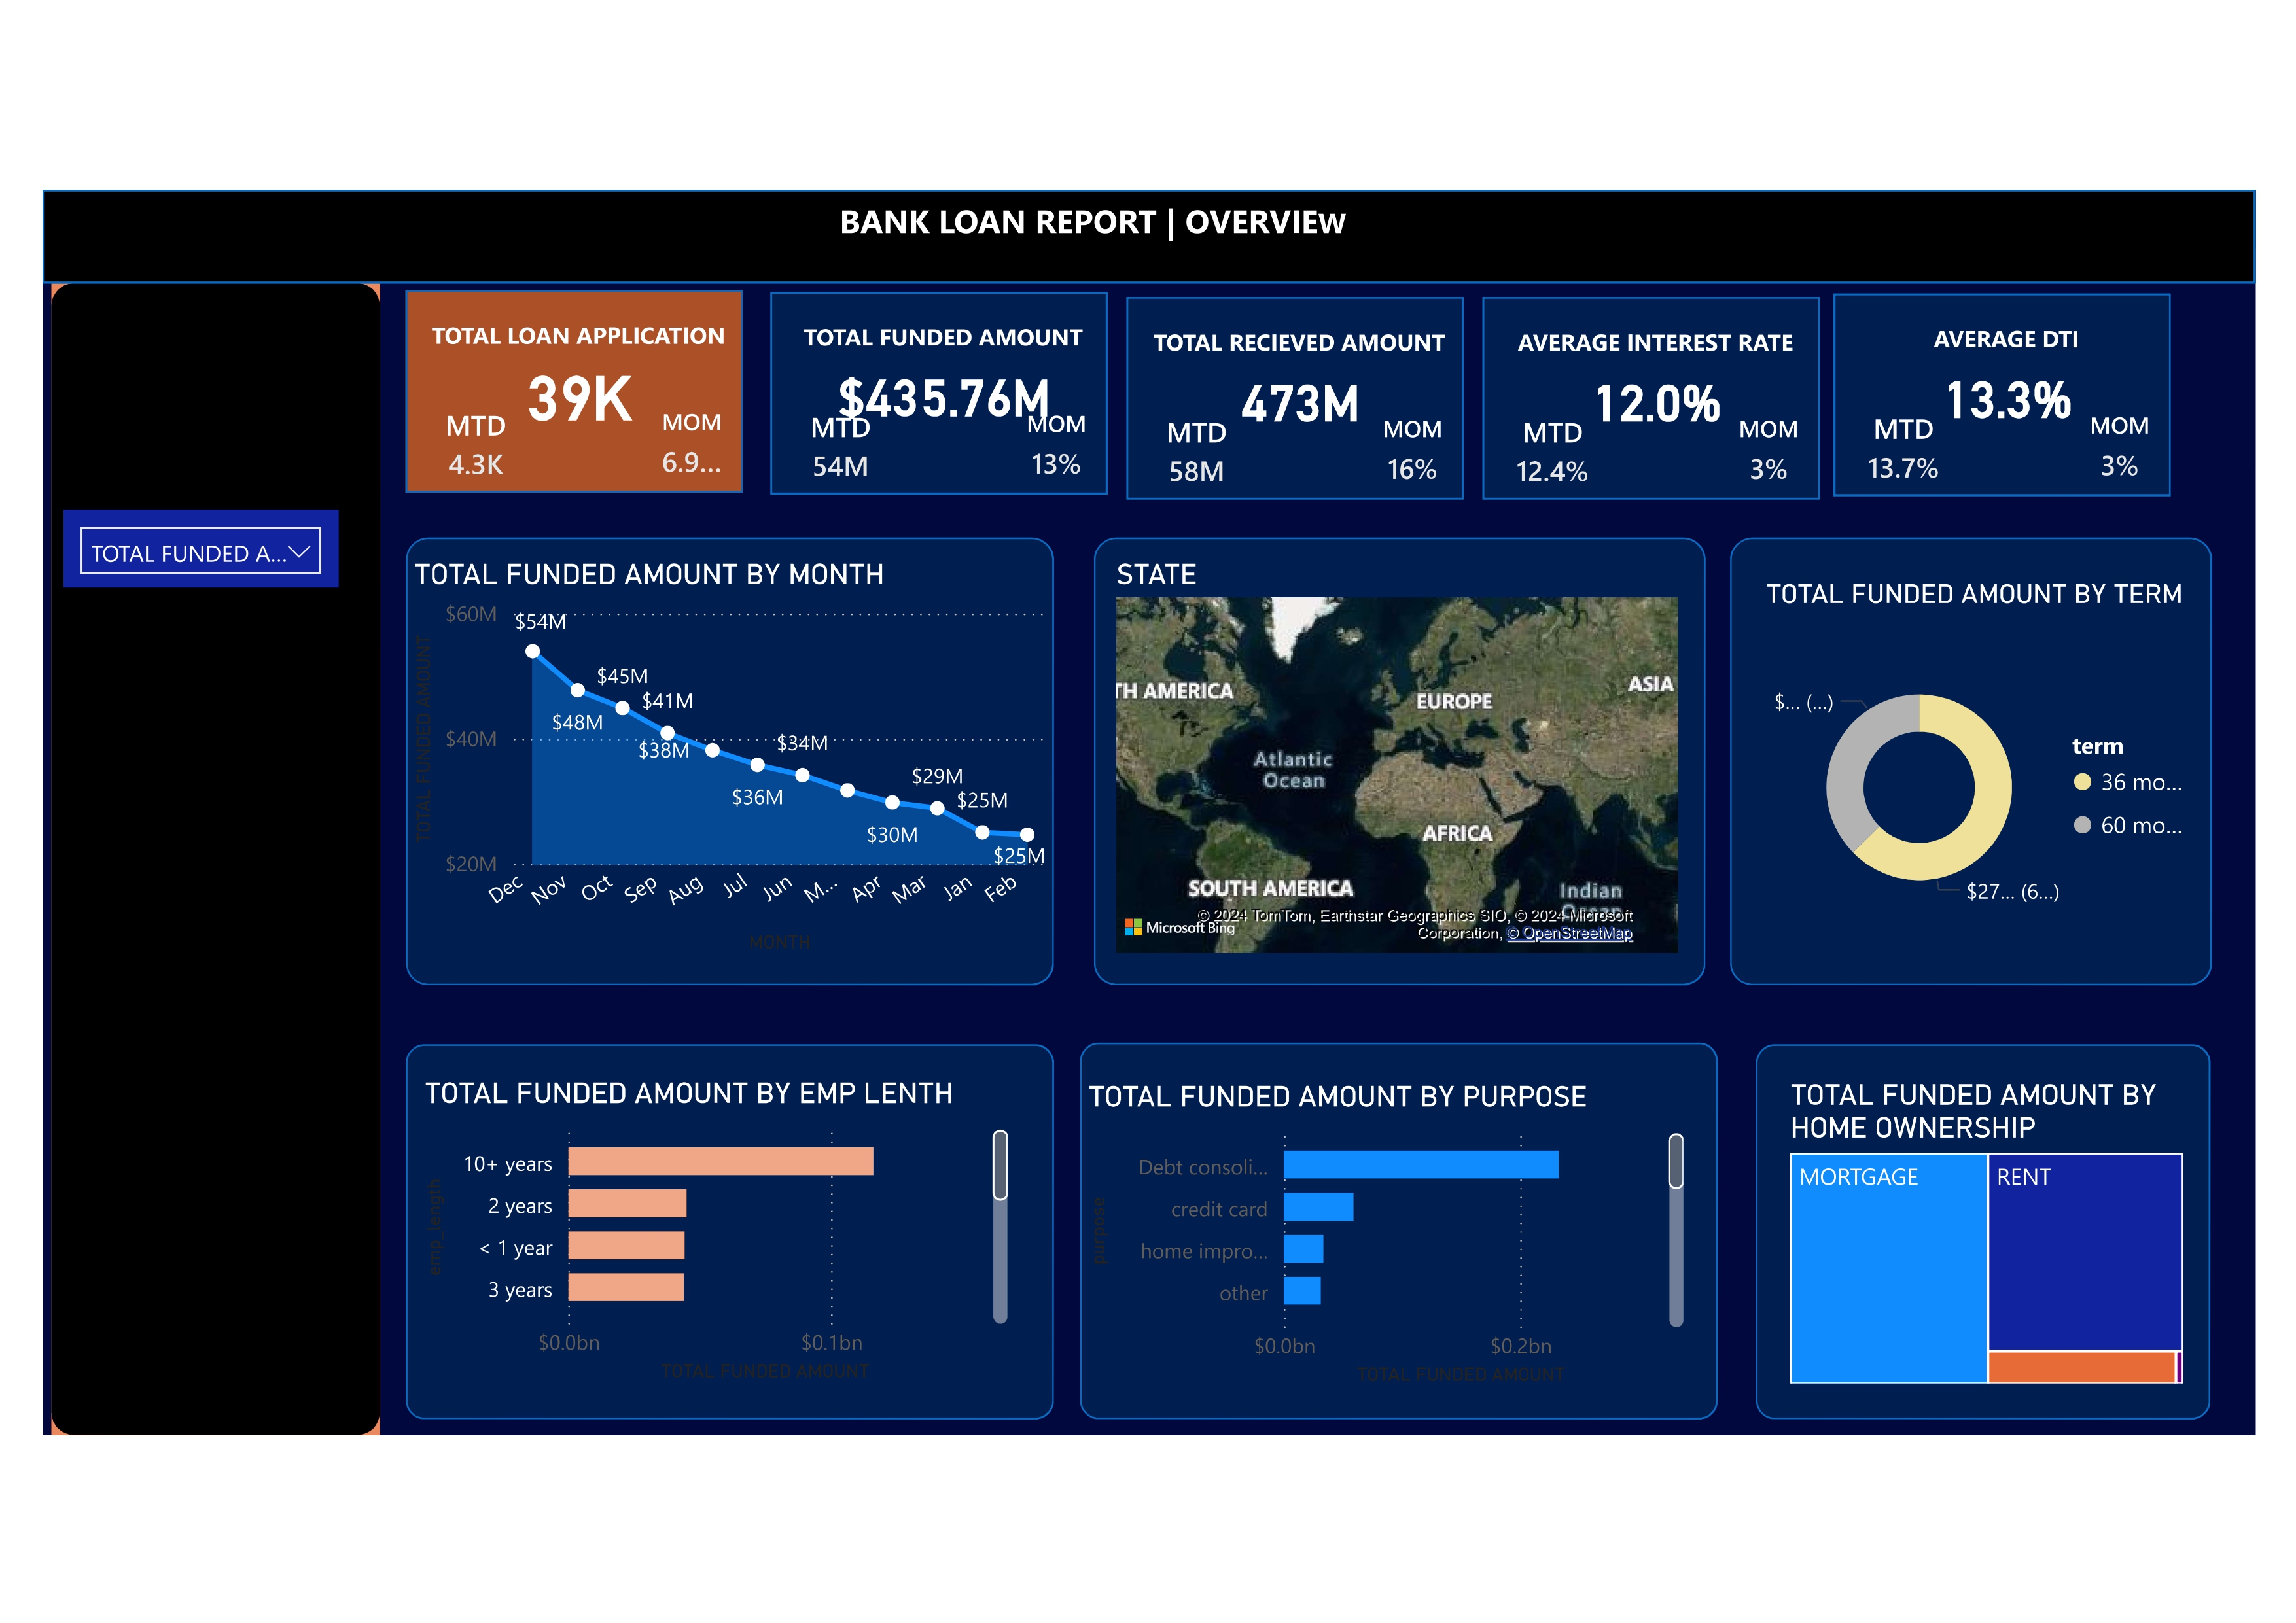

Layout of this report page (visuals, bound fields, positions):
{"tool":"powerbi","page":{"name":"OVERVIEW","canvas":[1280,720],"ordinal":1},"visuals":[{"type":"shape","box":[209.9,57.6,195,117],"z":0,"group":"g1"},{"type":"shape","box":[421.2,59,195,117],"z":0,"group":"g2"},{"type":"shape","box":[1036,60.4,195,117],"z":0,"group":"g5"},{"type":"shape","box":[627.1,61.7,195,117],"z":0,"group":"g3"},{"type":"shape","box":[832.9,61.7,195,117],"z":0,"group":"g4"},{"type":"shape","box":[209.8,201.2,375.6,258.5],"z":0},{"type":"shape","box":[4.8,54.3,190.6,666],"z":1000},{"type":"group","id":"g1","title":"Group 1","box":[171.5,57.6,275.8,116.6],"z":2000},{"type":"group","id":"g2","title":"Group 1","box":[382.8,59,275.8,116.6],"z":3000},{"type":"textbox","box":[171.5,69.9,275.8,31.6],"z":3000,"group":"g1"},{"type":"textbox","box":[382.8,71.3,275.8,31.6],"z":3000,"group":"g2"},{"type":"textbox","box":[997.6,72.7,275.8,31.6],"z":3000,"group":"g5"},{"type":"textbox","box":[588.7,74,275.8,31.6],"z":3000,"group":"g3"},{"type":"textbox","box":[794.5,74,275.8,31.6],"z":3000,"group":"g4"},{"type":"group","id":"g3","title":"Group 1","box":[588.7,61.7,275.8,116.6],"z":4000},{"type":"card","fields":{"Values":["financial_loan.Total Loan application"]},"box":[222.3,85,175.6,64.5],"z":4000,"group":"g1"},{"type":"card","fields":{"Values":["financial_loan.TOTAL FUNDED AMOUNT"]},"box":[433.6,86.4,175.6,64.5],"z":4000,"group":"g2"},{"type":"card","fields":{"Values":["financial_loan.AVG DTI"]},"box":[1048.4,87.8,175.6,64.5],"z":4000,"group":"g5"},{"type":"card","fields":{"Values":["financial_loan.Total received amount"]},"box":[639.5,89.1,175.6,64.5],"z":4000,"group":"g3"},{"type":"card","fields":{"Values":["financial_loan.Average interest rate"]},"box":[845.3,89.1,175.6,64.5],"z":4000,"group":"g4"},{"type":"group","id":"g4","title":"Group 1","box":[794.5,61.7,275.8,116.6],"z":5000},{"type":"card","title":"MTD","fields":{"Values":["financial_loan.MTD LOAN APPLICATIONS"]},"box":[222.3,124.8,54.9,49.4],"z":5000,"group":"g1"},{"type":"card","title":"MTD","fields":{"Values":["financial_loan.MTD FUNDED AMOUNT"]},"box":[433.6,126.2,54.9,49.4],"z":5000,"group":"g2"},{"type":"card","title":"MTD","fields":{"Values":["financial_loan.MTD Average DTI"]},"box":[1048.4,127.6,54.9,49.4],"z":5000,"group":"g5"},{"type":"card","title":"MTD","fields":{"Values":["financial_loan.MTD total recived amount"]},"box":[639.5,128.9,54.9,49.4],"z":5000,"group":"g3"},{"type":"card","title":"MTD","fields":{"Values":["financial_loan.MTD Average interest rate"]},"box":[845.3,128.9,54.9,49.4],"z":5000,"group":"g4"},{"type":"group","id":"g5","title":"Group 1","box":[997.6,60.4,275.8,116.6],"z":6000},{"type":"card","title":"MOM","fields":{"Values":["financial_loan.MOM Loan application"]},"box":[352.6,124.8,45.3,49.4],"z":6000,"group":"g1"},{"type":"card","title":"MOM","fields":{"Values":["financial_loan.MOM FUNDED AMOUNT"]},"box":[563.9,126.2,45.3,49.4],"z":6000,"group":"g2"},{"type":"card","title":"MOM","fields":{"Values":["financial_loan.MOM AVG DTI"]},"box":[1178.7,127.6,45.3,49.4],"z":6000,"group":"g5"},{"type":"card","title":"MOM","fields":{"Values":["financial_loan.MOM RECIEVED AMOUNT"]},"box":[769.8,128.9,45.3,49.4],"z":6000,"group":"g3"},{"type":"card","title":"MOM","fields":{"Values":["financial_loan.MOM AVERAGE INTEREST RATE"]},"box":[975.6,128.9,45.3,49.4],"z":6000,"group":"g4"},{"type":"shape","box":[209.8,493.9,375.6,217.1],"z":7000},{"type":"shape","box":[608,201.5,353.5,258.2],"z":8000},{"type":"slicer","fields":{"Values":["Select measure.Select measure"]},"box":[12.1,184.6,159.3,45.8],"z":9000},{"type":"areaChart","title":"TOTAL FUNDED AMOUNT BY MONTH","fields":{"Y":["financial_loan.TOTAL FUNDED AMOUNT"],"Category":["Date table.MONTH"]},"box":[209.9,212.3,375.2,234],"z":10000},{"type":"filledMap","title":"STATE","fields":{"Category":["financial_loan.address_state"]},"box":[616.5,212.3,334.2,234],"z":11000},{"type":"shape","box":[976,201.5,278.7,258.2],"z":12000},{"type":"donutChart","title":"TOTAL FUNDED AMOUNT BY TERM","fields":{"Y":["financial_loan.TOTAL FUNDED AMOUNT"],"Category":["financial_loan.term"]},"box":[991.7,224.4,263,224.4],"z":13000},{"type":"shape","box":[599.6,493.4,369.2,217.2],"z":14000},{"type":"shape","box":[991.5,493.9,262.2,217.1],"z":15000},{"type":"barChart","title":"TOTAL FUNDED AMOUNT BY EMP LENTH","fields":{"Y":["financial_loan.TOTAL FUNDED AMOUNT"],"Category":["financial_loan.emp_length"]},"box":[216,511.5,347.5,182.2],"z":16000},{"type":"barChart","title":"TOTAL FUNDED AMOUNT BY PURPOSE","fields":{"Y":["financial_loan.TOTAL FUNDED AMOUNT"],"Category":["financial_loan.purpose"]},"box":[599.6,513.9,354.7,182.2],"z":17000},{"type":"treemap","title":"TOTAL FUNDED AMOUNT BY HOME OWNERSHIP","fields":{"Values":["financial_loan.TOTAL FUNDED AMOUNT"],"Group":["financial_loan.home_ownership"]},"box":[1006.2,512.7,236.5,182.2],"z":18000},{"type":"shape","box":[0,0,1280,54.3],"z":19000},{"type":"textbox","box":[427.1,0,360.7,49.5],"z":20000}]}

Visuals, with their boxes on the page's 1280x720 design canvas (x1, y1, x2, y2). These are canvas units, not pixel positions in the 2296x1623 screenshot, which may show the page scaled, cropped or inside an application window:
shape: (x1=210, y1=58, x2=405, y2=175)
shape: (x1=421, y1=59, x2=616, y2=176)
shape: (x1=1036, y1=60, x2=1231, y2=177)
shape: (x1=627, y1=62, x2=822, y2=179)
shape: (x1=833, y1=62, x2=1028, y2=179)
shape: (x1=210, y1=201, x2=585, y2=460)
shape: (x1=5, y1=54, x2=195, y2=720)
"Group 1" group: (x1=172, y1=58, x2=447, y2=174)
"Group 1" group: (x1=383, y1=59, x2=659, y2=176)
textbox: (x1=172, y1=70, x2=447, y2=102)
textbox: (x1=383, y1=71, x2=659, y2=103)
textbox: (x1=998, y1=73, x2=1273, y2=104)
textbox: (x1=589, y1=74, x2=864, y2=106)
textbox: (x1=794, y1=74, x2=1070, y2=106)
"Group 1" group: (x1=589, y1=62, x2=864, y2=178)
card - financial_loan.Total Loan application: (x1=222, y1=85, x2=398, y2=150)
card - financial_loan.TOTAL FUNDED AMOUNT: (x1=434, y1=86, x2=609, y2=151)
card - financial_loan.AVG DTI: (x1=1048, y1=88, x2=1224, y2=152)
card - financial_loan.Total received amount: (x1=640, y1=89, x2=815, y2=154)
card - financial_loan.Average interest rate: (x1=845, y1=89, x2=1021, y2=154)
"Group 1" group: (x1=794, y1=62, x2=1070, y2=178)
"MTD" card: (x1=222, y1=125, x2=277, y2=174)
"MTD" card: (x1=434, y1=126, x2=488, y2=176)
"MTD" card: (x1=1048, y1=128, x2=1103, y2=177)
"MTD" card: (x1=640, y1=129, x2=694, y2=178)
"MTD" card: (x1=845, y1=129, x2=900, y2=178)
"Group 1" group: (x1=998, y1=60, x2=1273, y2=177)
"MOM" card: (x1=353, y1=125, x2=398, y2=174)
"MOM" card: (x1=564, y1=126, x2=609, y2=176)
"MOM" card: (x1=1179, y1=128, x2=1224, y2=177)
"MOM" card: (x1=770, y1=129, x2=815, y2=178)
"MOM" card: (x1=976, y1=129, x2=1021, y2=178)
shape: (x1=210, y1=494, x2=585, y2=711)
shape: (x1=608, y1=202, x2=962, y2=460)
slicer - Select measure.Select measure: (x1=12, y1=185, x2=171, y2=230)
"TOTAL FUNDED AMOUNT BY MONTH" areaChart: (x1=210, y1=212, x2=585, y2=446)
"STATE" filledMap: (x1=616, y1=212, x2=951, y2=446)
shape: (x1=976, y1=202, x2=1255, y2=460)
"TOTAL FUNDED AMOUNT BY TERM" donutChart: (x1=992, y1=224, x2=1255, y2=449)
shape: (x1=600, y1=493, x2=969, y2=711)
shape: (x1=992, y1=494, x2=1254, y2=711)
"TOTAL FUNDED AMOUNT BY EMP LENTH" barChart: (x1=216, y1=512, x2=564, y2=694)
"TOTAL FUNDED AMOUNT BY PURPOSE" barChart: (x1=600, y1=514, x2=954, y2=696)
"TOTAL FUNDED AMOUNT BY HOME OWNERSHIP" treemap: (x1=1006, y1=513, x2=1243, y2=695)
shape: (x1=0, y1=0, x2=1280, y2=54)
textbox: (x1=427, y1=0, x2=788, y2=50)
